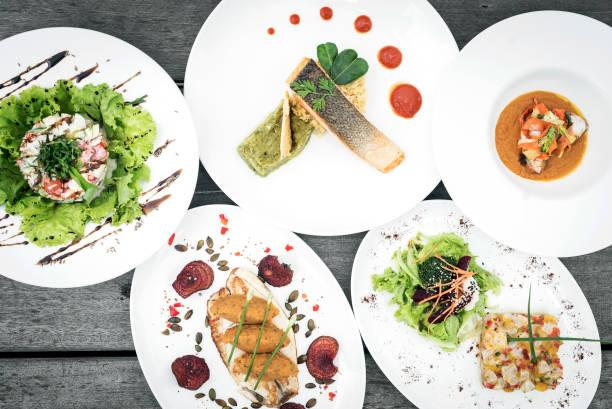Braised Crucian Carp: (187, 0, 449, 238), (351, 199, 599, 409), (1, 26, 198, 289), (131, 203, 364, 406), (431, 8, 612, 255)
